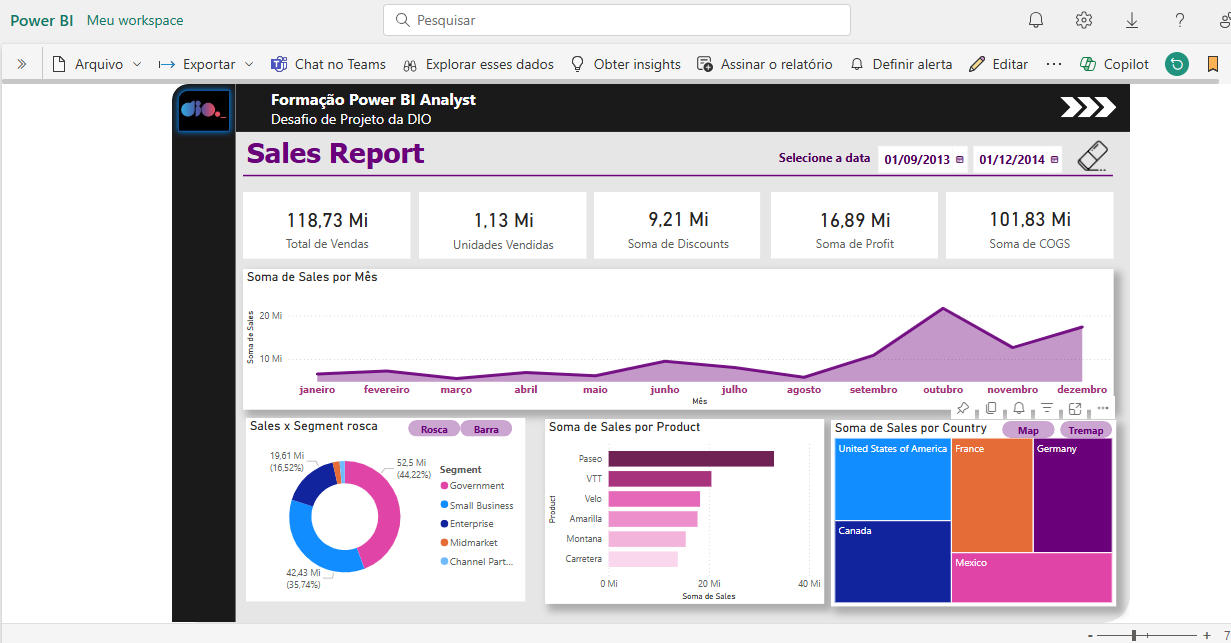

Layout of this report page (visuals, bound fields, positions):
{"tool":"powerbi","page":{"name":"Página 1","canvas":[1280,720],"ordinal":0},"visuals":[{"type":"shape","box":[0,1.5,1279.9,718.6],"z":0},{"type":"shape","box":[1230.8,18.5,30.3,27.3],"z":0,"group":"g6"},{"type":"slicer","fields":{"Values":["financials.Date"]},"box":[929.4,71.5,268.2,59.3],"z":0,"group":"g3"},{"type":"shape","box":[94.9,99.8,1162.1,44.2],"z":0,"group":"g1"},{"type":"card","fields":{"Values":["Sum(financials.COGS)"]},"box":[1038.7,151.9,213.1,74.9],"z":0,"group":"g2"},{"type":"shape","box":[1208.4,18.5,30.3,27.3],"z":1000,"group":"g6"},{"type":"textbox","box":[94.9,63.8,304.5,67.1],"z":1000,"group":"g1"},{"type":"textbox","box":[800.4,82.5,143.3,42.7],"z":1000,"group":"g3"},{"type":"shape","box":[94.6,144,223.8,89],"z":1000},{"type":"card","fields":{"Values":["Sum(financials.Profit)"]},"box":[804.5,153.2,213.1,73.6],"z":1000,"group":"g2"},{"type":"treemap","fields":{"Group":["financials.Country"],"Values":["Sum(financials. Sales)"]},"box":[880.9,447.6,380.7,249.3],"z":1000,"group":"g4"},{"type":"actionButton","box":[1109.7,449,70.6,22.7],"z":1500,"group":"g4"},{"type":"shape","box":[0,0,85.4,718.7],"z":2000},{"type":"shape","box":[1186,18.5,30.3,27.3],"z":2000,"group":"g6"},{"type":"image","title":"Clean","box":[1205.5,70.5,50.2,50.2],"z":2000,"group":"g3"},{"type":"card","fields":{"Values":["Sum(financials.Discounts)"]},"box":[568.8,151.9,214.5,74.9],"z":2000,"group":"g2"},{"type":"actionButton","box":[1186.6,449,69.8,22.6],"z":2000,"group":"g4"},{"type":"donutChart","title":"Sales x Segment rosca","fields":{"Y":["Sum(financials. Sales)"],"Category":["financials.Segment"]},"box":[99.1,446.7,372.9,244.7],"z":2375,"group":"g5"},{"type":"clusteredBarChart","title":"Sales x Segment Barra","fields":{"Y":["Sum(financials. Sales)"],"Category":["financials.Segment"]},"box":[112.6,446.9,372.7,247.1],"z":2437,"group":"g5"},{"type":"actionButton","box":[315.2,449.7,70,22.2],"z":2500,"group":"g5"},{"type":"actionButton","box":[1144.4,8.7,135.6,52],"z":3000,"group":"g6"},{"type":"shape","box":[329.4,144,223.8,89],"z":3000},{"type":"card","fields":{"Values":["Sum(financials.Units Sold)"]},"box":[334.5,153.2,214.5,74.9],"z":3000,"group":"g2"},{"type":"actionButton","box":[385.2,449.7,70,22.2],"z":3000,"group":"g5"},{"type":"shape","box":[0,0,85.4,71.3],"z":4000},{"type":"card","fields":{"Values":["Sum(financials. Sales)"]},"box":[98.4,152.7,216.7,73.8],"z":4000,"group":"g2"},{"type":"shape","box":[564.3,144,221.9,89],"z":5000},{"type":"image","title":"Logo DIO","box":[5.6,13.7,74.5,40.5],"z":6000},{"type":"shape","box":[799.6,144,223.3,88.8],"z":7000},{"type":"shape","box":[1034,144,223.8,89],"z":8000},{"type":"shape","box":[85.4,0,1195.3,64.5],"z":9000},{"type":"textbox","box":[127.1,0,386.8,64.9],"z":10000},{"type":"areaChart","fields":{"Y":["Sum(financials. Sales)"],"Category":["financials.Date.Variation.Hierarquia de datas.Mês"]},"box":[94.7,247.2,1163.2,187.6],"z":11000},{"type":"group","id":"g1","title":"Title Report","box":[94.9,63.8,1162.1,80.2],"z":11500},{"type":"clusteredBarChart","fields":{"Y":["Sum(financials. Sales)"],"Category":["financials.Product"]},"box":[498.4,447.5,372.7,247.1],"z":12000},{"type":"group","id":"g2","title":"Cartões","box":[98.4,151.9,1153.5,76.2],"z":13000},{"type":"group","id":"g3","title":"filtro por data","box":[800.4,70.5,455.2,60.3],"z":14000},{"type":"group","id":"g4","title":"SAles x Pais","box":[880.9,446.9,382.5,250],"z":15000},{"type":"group","id":"g5","title":"SAles x Segment","box":[99.1,446.7,386.5,246.7],"z":16000},{"type":"group","id":"g6","title":"Seta","box":[1144.4,8.7,135.6,52],"z":18000}]}

Visuals, with their boxes on the page's 1280x720 design canvas (x1, y1, x2, y2). These are canvas units, not pixel positions in the 1231x643 screenshot, which may show the page scaled, cropped or inside an application window:
shape: box=[0, 2, 1280, 720]
shape: box=[1231, 18, 1261, 46]
slicer - financials.Date: box=[929, 72, 1198, 131]
shape: box=[95, 100, 1257, 144]
card - Sum(financials.COGS): box=[1039, 152, 1252, 227]
shape: box=[1208, 18, 1239, 46]
textbox: box=[95, 64, 399, 131]
textbox: box=[800, 82, 944, 125]
shape: box=[95, 144, 318, 233]
card - Sum(financials.Profit): box=[804, 153, 1018, 227]
treemap - financials.Country x Sum(financials. Sales): box=[881, 448, 1262, 697]
actionButton: box=[1110, 449, 1180, 472]
shape: box=[0, 0, 85, 719]
shape: box=[1186, 18, 1216, 46]
"Clean" image: box=[1206, 70, 1256, 121]
card - Sum(financials.Discounts): box=[569, 152, 783, 227]
actionButton: box=[1187, 449, 1256, 472]
"Sales x Segment rosca" donutChart: box=[99, 447, 472, 691]
"Sales x Segment Barra" clusteredBarChart: box=[113, 447, 485, 694]
actionButton: box=[315, 450, 385, 472]
actionButton: box=[1144, 9, 1280, 61]
shape: box=[329, 144, 553, 233]
card - Sum(financials.Units Sold): box=[334, 153, 549, 228]
actionButton: box=[385, 450, 455, 472]
shape: box=[0, 0, 85, 71]
card - Sum(financials. Sales): box=[98, 153, 315, 226]
shape: box=[564, 144, 786, 233]
"Logo DIO" image: box=[6, 14, 80, 54]
shape: box=[800, 144, 1023, 233]
shape: box=[1034, 144, 1258, 233]
shape: box=[85, 0, 1281, 64]
textbox: box=[127, 0, 514, 65]
areaChart - Sum(financials. Sales) x financials.Date.Variation.Hierarquia de datas.Mês: box=[95, 247, 1258, 435]
"Title Report" group: box=[95, 64, 1257, 144]
clusteredBarChart - Sum(financials. Sales) x financials.Product: box=[498, 448, 871, 695]
"Cartões" group: box=[98, 152, 1252, 228]
"filtro por data" group: box=[800, 70, 1256, 131]
"SAles x Pais" group: box=[881, 447, 1263, 697]
"SAles x Segment" group: box=[99, 447, 486, 693]
"Seta" group: box=[1144, 9, 1280, 61]
